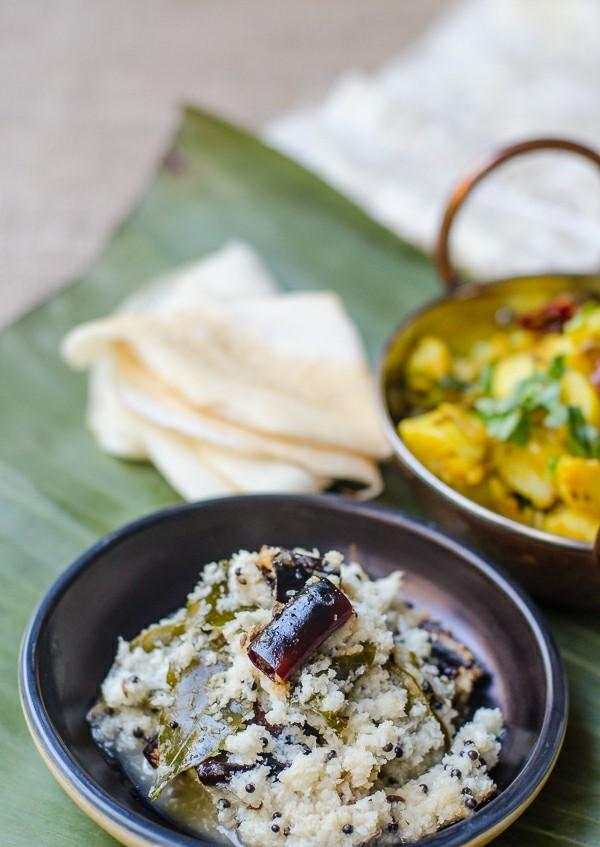CoconutChutney: (97, 541, 509, 847)
